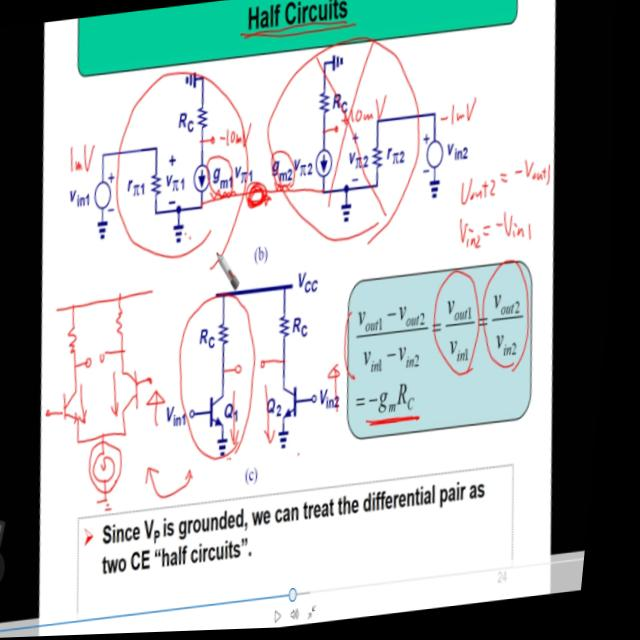panseo: (28, 270, 223, 527), (414, 50, 569, 265), (54, 117, 111, 201)
